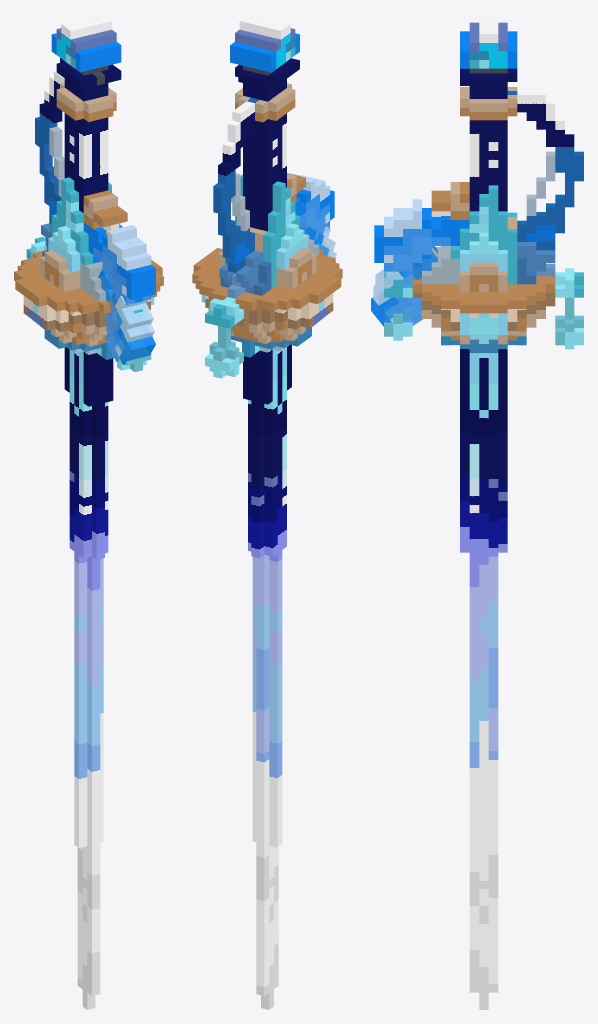
Rendered from 【原神】静水流涌之辉.gltf.
The picture shows the model from 3 angles, left to right: view 1: azimuth 30°, elevation 25°; view 2: azimuth 150°, elevation 25°; view 3: azimuth 270°, elevation 25°; orthographic projection.
Visible parts, largest first — view 1: Object (×2); view 2: Object (×2); view 3: Object (×2).
Part boxes in pixels (bbox=[...]): Object (×2): bbox=[14, 14, 163, 1009]; Object (×2): bbox=[192, 14, 342, 1009]; Object (×2): bbox=[371, 14, 583, 1009].
Bounding box in the file's own units: 15 × 114 × 22.36.
Materials: 2 (2 with a texture image).
